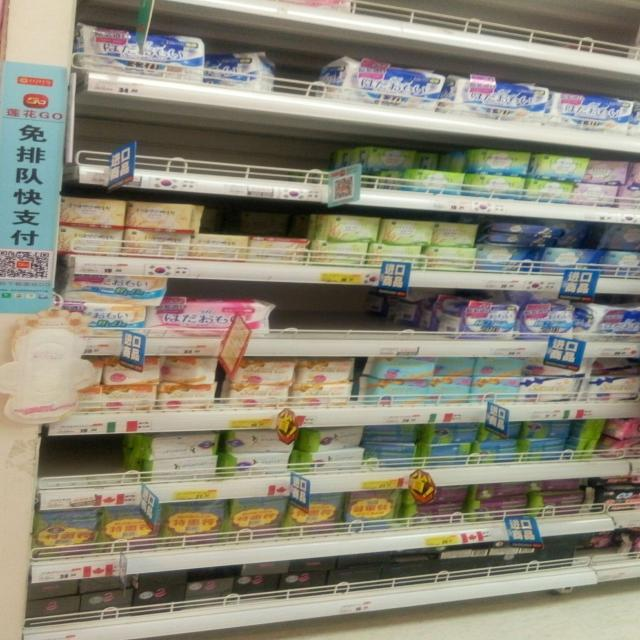empty: (86, 119, 333, 190), (359, 1, 640, 45), (264, 288, 407, 341), (35, 434, 145, 488), (268, 56, 342, 94)
